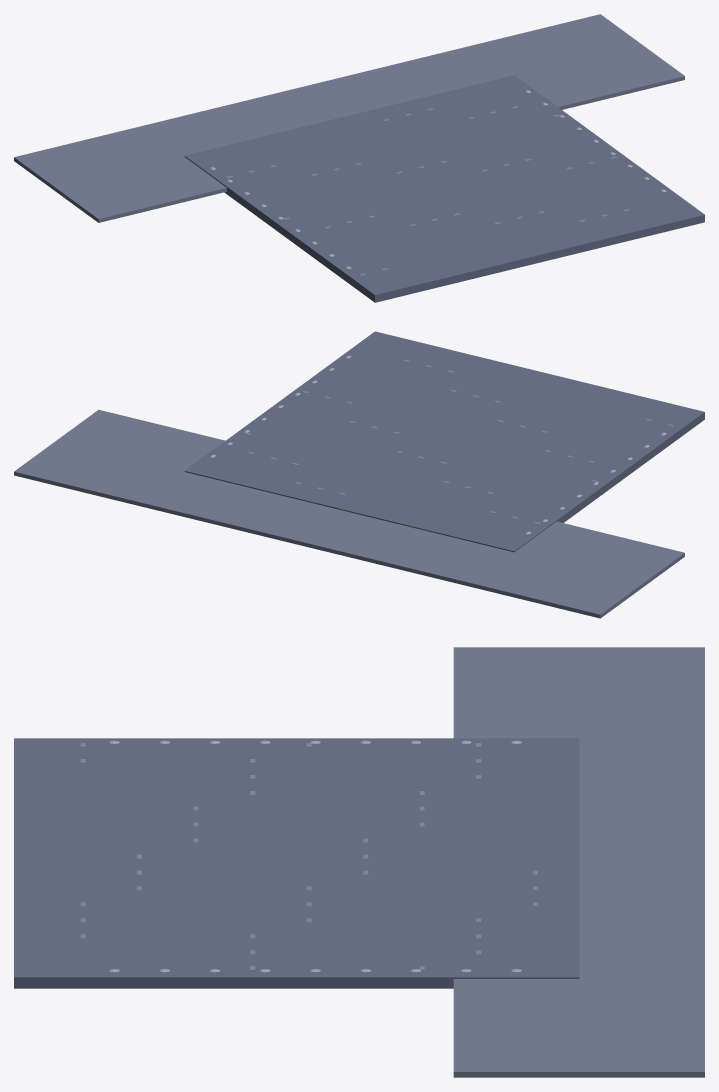
File: cumbre.glb
3 views of the same model, one above another, from view 1: azimuth 30°, elevation 25°; view 2: azimuth 150°, elevation 25°; view 3: azimuth 270°, elevation 25° (orthographic). The views are drawn at different scales.
Visible parts, largest first — view 1: cumbre; view 2: cumbre; view 3: cumbre.
Part boxes in pixels (x1,y1,x2,y2): cumbre: [14, 14, 704, 302]; cumbre: [14, 331, 704, 618]; cumbre: [14, 647, 704, 1077].
Size of the model in its own units: 160 by 2.4 by 110.
